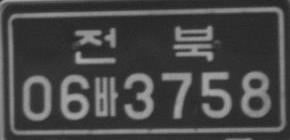0: (21, 74, 52, 121)
3: (123, 72, 155, 120)
5: (200, 71, 233, 118)
6: (59, 74, 90, 120)
7: (160, 71, 193, 119)
8: (240, 69, 272, 119)
바: (93, 76, 118, 116)
전북_D: (73, 24, 215, 64)
